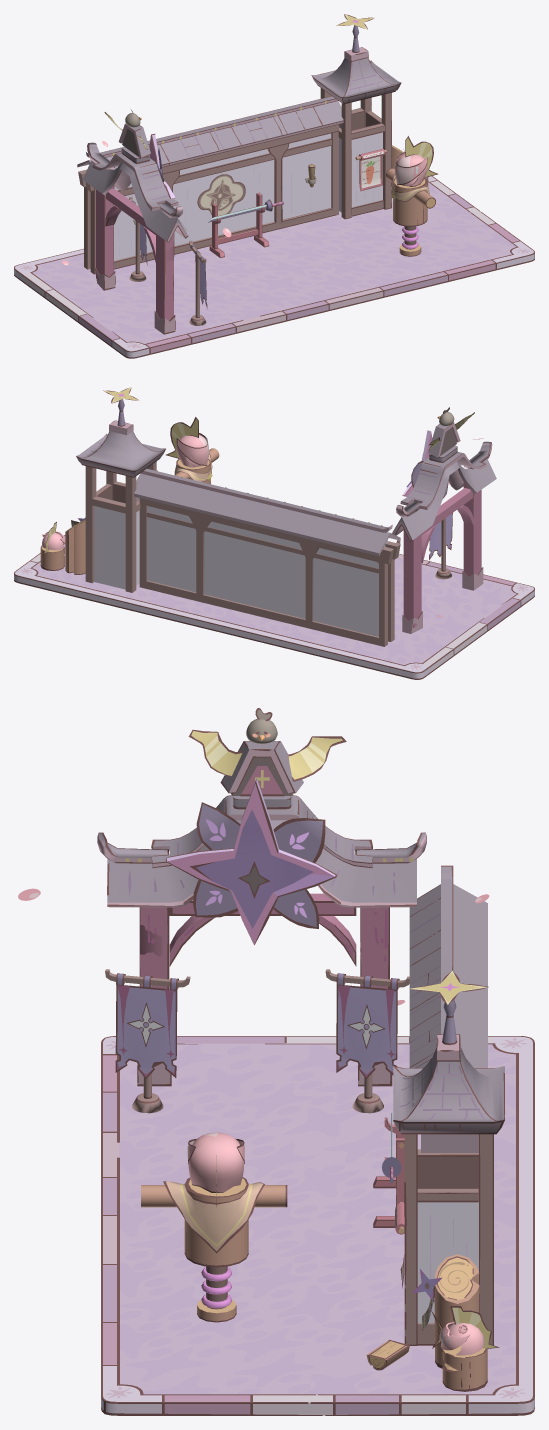
Rendered from Mesh_Home_S0_Maiden_MoonSword_SM.fbx.
3 views of the same model, one above another, from view 1: azimuth 30°, elevation 25°; view 2: azimuth 150°, elevation 25°; view 3: azimuth 270°, elevation 25° (orthographic). The views are drawn at different scales.
Visible parts, largest first — view 1: Mesh_Home_S0_Maiden_MoonSword, Mesh_Home_S0_Maiden_MoonSword_P; view 2: Mesh_Home_S0_Maiden_MoonSword; view 3: Mesh_Home_S0_Maiden_MoonSword, Mesh_Home_S0_Maiden_MoonSword_P.
Part boxes in pixels (box(x1,y1,x2,y2)): Mesh_Home_S0_Maiden_MoonSword: box(14, 14, 534, 358); Mesh_Home_S0_Maiden_MoonSword_P: box(19, 141, 531, 348); Mesh_Home_S0_Maiden_MoonSword: box(14, 387, 534, 679); Mesh_Home_S0_Maiden_MoonSword: box(97, 708, 534, 1415); Mesh_Home_S0_Maiden_MoonSword_P: box(18, 819, 526, 1398).
Size of the model in its own units: 600 by 291 by 360.
